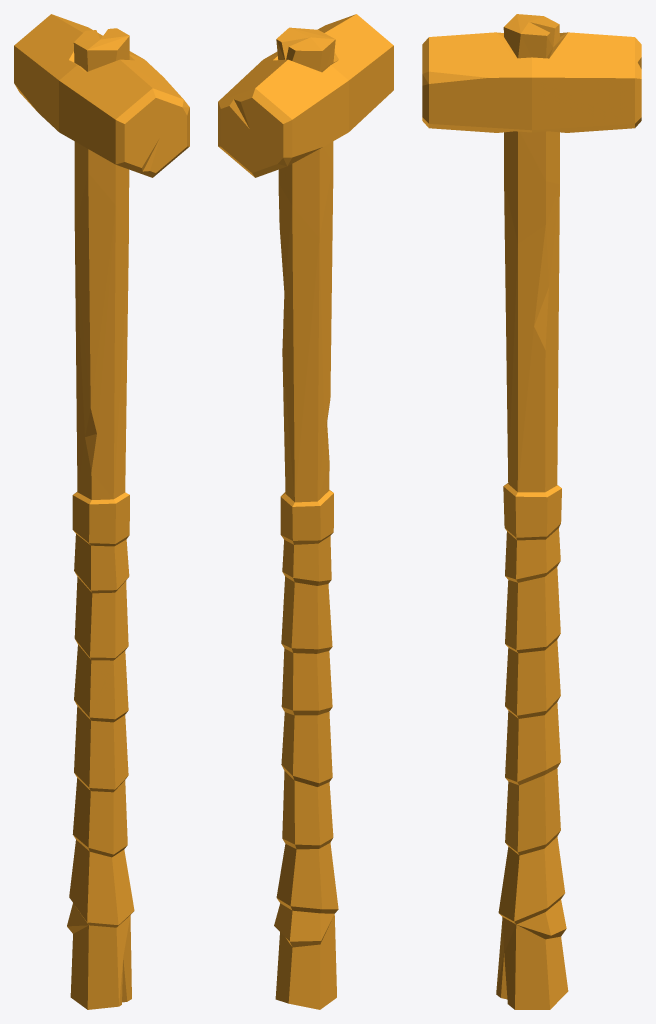
File: SM_Maul_A_Fantasy.fbx
3 renders of one model, left to right at view 1: azimuth 30°, elevation 25°; view 2: azimuth 150°, elevation 25°; view 3: azimuth 270°, elevation 25°, orthographic.
Parts seen in each view (by area): view 1: maul-a-fantasy; view 2: maul-a-fantasy; view 3: maul-a-fantasy.
Part boxes in pixels (left/top/right/bottom): maul-a-fantasy: left=14, top=14, right=189, bottom=1009; maul-a-fantasy: left=218, top=14, right=393, bottom=1009; maul-a-fantasy: left=422, top=14, right=641, bottom=1009.
Bounding box in the file's own units: 0.0731 × 0.7822 × 0.1591.
